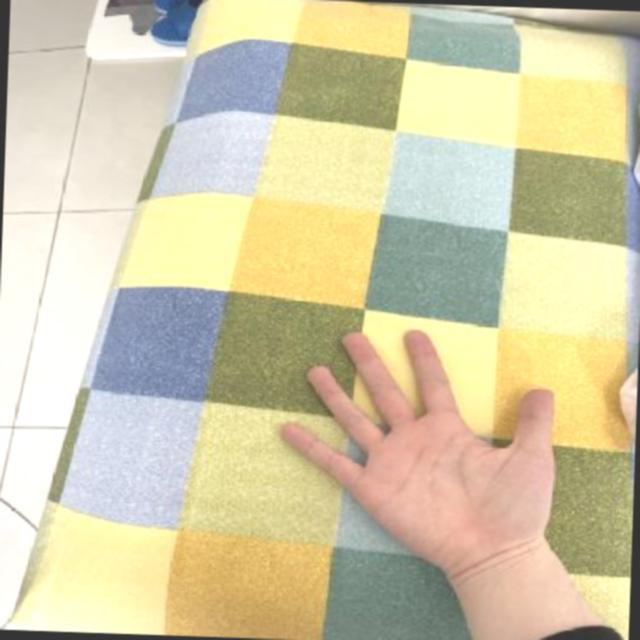hand: (258, 311, 592, 588)
